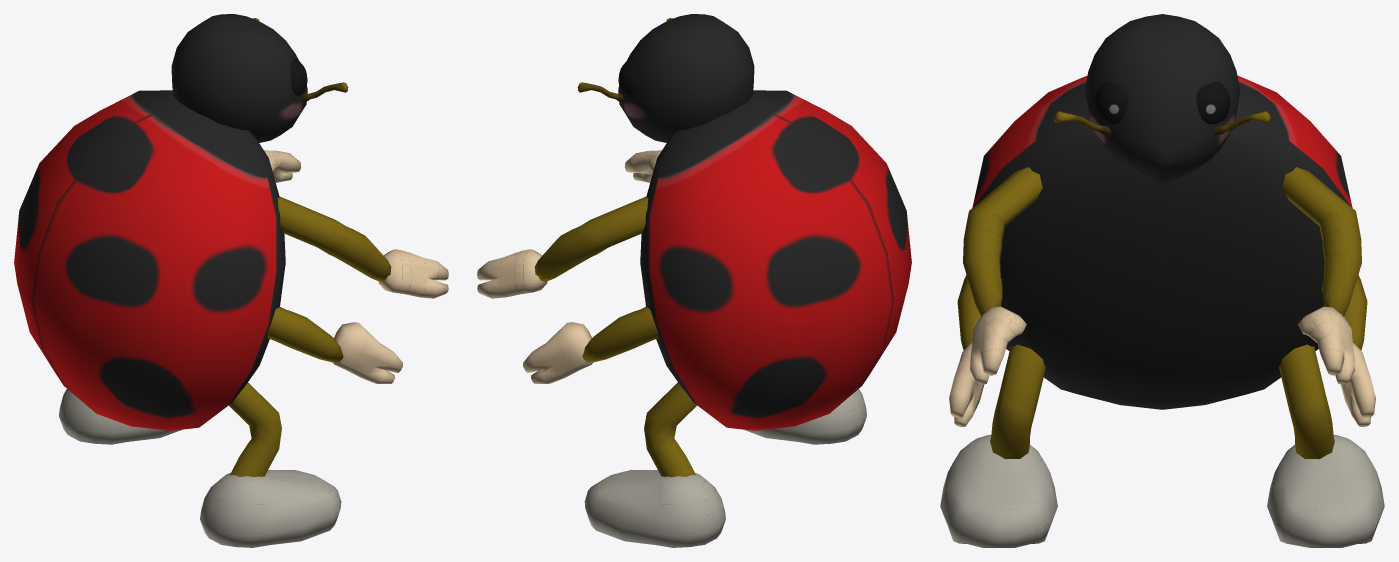
Rendered from Tento.fbx.
3 views of the same model, side by side, from view 1: azimuth 30°, elevation 25°; view 2: azimuth 150°, elevation 25°; view 3: azimuth 270°, elevation 25° (orthographic). The views are drawn at different scales.
Parts seen in each view (by area): view 1: Body, Head, Food, ArmUp, Hand, Leg, Cube.001, ArmM; view 2: Body, Head, Food, ArmUp, Hand, Leg, Cube.001, ArmM; view 3: Body, Food, Head, ArmUp, Leg, Hand, Cube.001, Eye, ArmM, Cylinder.
Boxes of the visible parts, x1,y1,x2,y2 form: Body: (14, 90, 285, 430); Head: (171, 14, 307, 142); Food: (59, 389, 341, 547); ArmUp: (277, 196, 391, 281); Hand: (264, 150, 448, 298); Leg: (229, 382, 281, 477); Cube.001: (333, 322, 402, 383); ArmM: (267, 307, 343, 362); Body: (640, 90, 911, 430); Head: (618, 14, 754, 142); Food: (584, 389, 866, 547); ArmUp: (534, 196, 648, 281); Hand: (477, 150, 661, 298); Leg: (644, 382, 696, 477); Cube.001: (523, 322, 592, 383); ArmM: (582, 307, 658, 362); Body: (972, 75, 1352, 409); Food: (940, 435, 1384, 547); Head: (1084, 14, 1240, 184); ArmUp: (963, 167, 1361, 316); Leg: (990, 344, 1334, 459); Hand: (970, 306, 1354, 384); Cube.001: (949, 342, 1375, 427); Eye: (1094, 82, 1230, 124); ArmM: (957, 275, 1367, 350); Cylinder: (1054, 111, 1270, 135).
Bounding box in the file's own units: 228 × 283 × 222.
